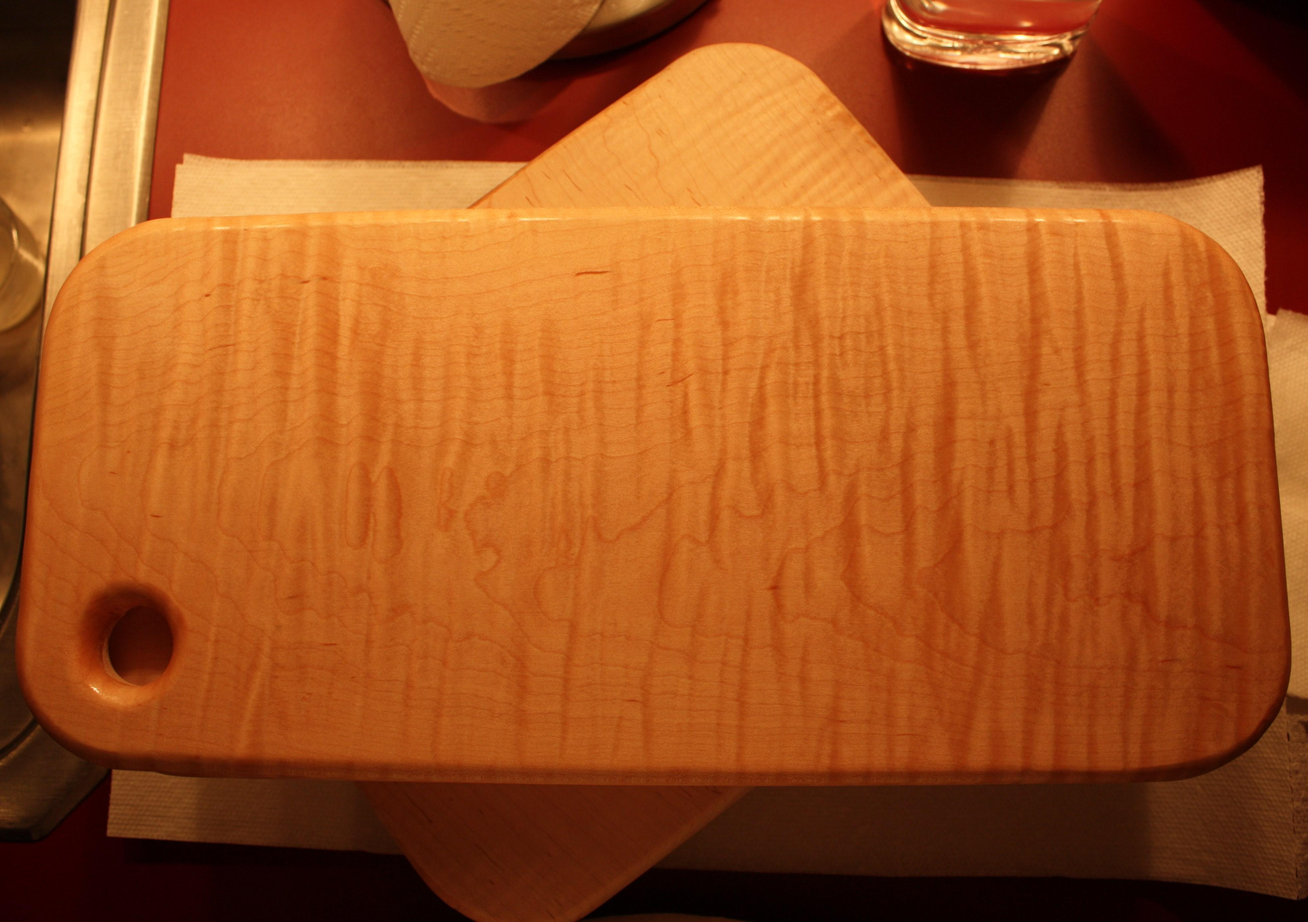gloved_hand: (10, 190, 1296, 802)
